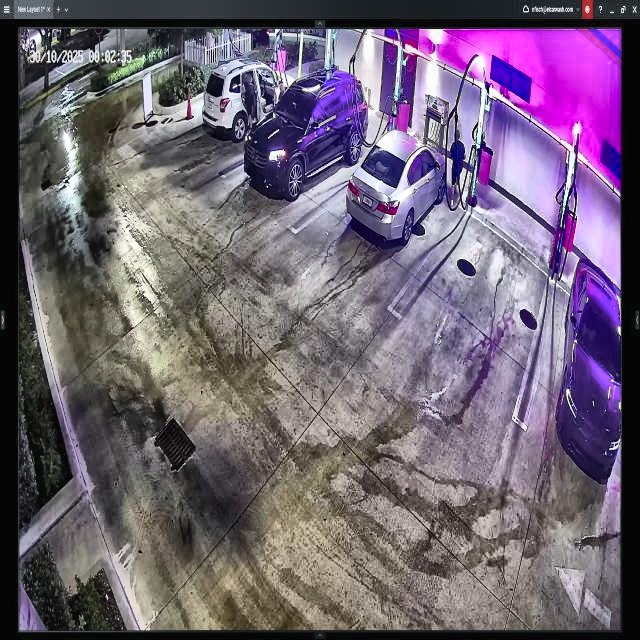Car: (245, 69, 368, 199), (346, 129, 448, 242)
